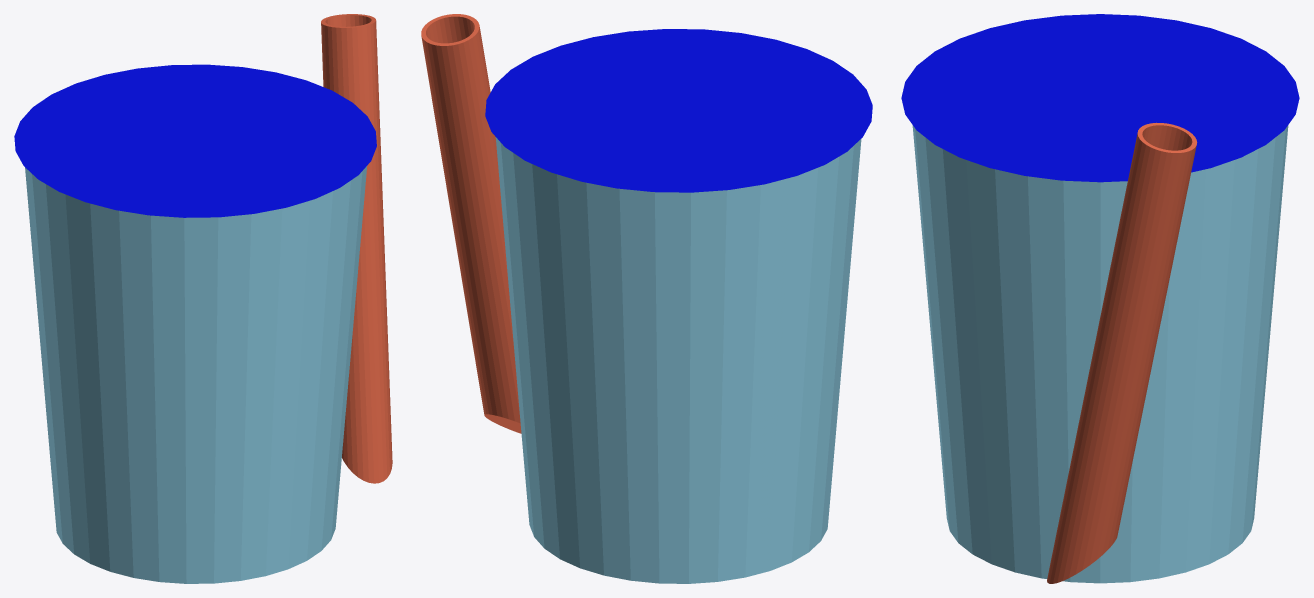
Rendered from BobaCup.fbx.
3 renders of one model, left to right at view 1: azimuth 30°, elevation 25°; view 2: azimuth 150°, elevation 25°; view 3: azimuth 270°, elevation 25°, orthographic. The views are drawn at different scales.
Visible parts, largest first — view 1: Cup, Lid, Straw; view 2: Cup, Lid, Straw; view 3: Cup, Lid, Straw.
Part boxes in pixels (x1,y1,x2,y2): Cup: (25, 166, 367, 583); Lid: (14, 64, 376, 217); Straw: (321, 14, 392, 483); Cup: (495, 137, 861, 583); Lid: (485, 29, 872, 192); Straw: (421, 14, 521, 433); Cup: (912, 125, 1288, 583); Lid: (901, 14, 1299, 182); Straw: (1047, 122, 1197, 583).
Bounding box in the file's own units: 300 × 347 × 259.
